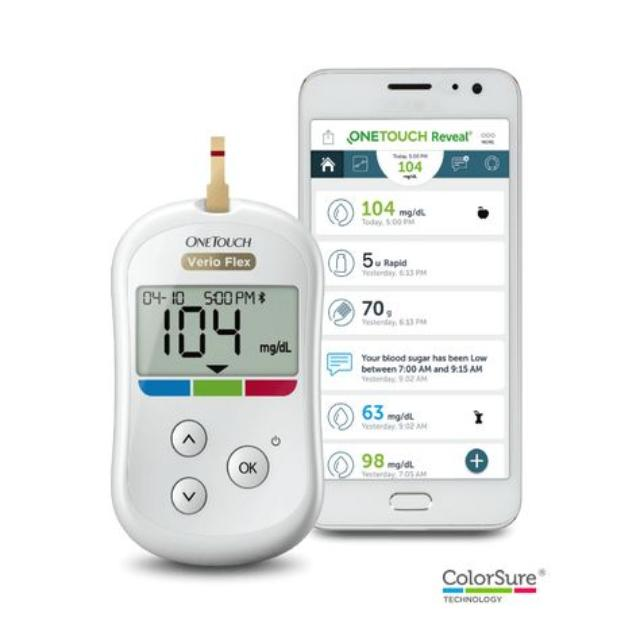Glucose-Meter: (112, 138, 322, 564)
